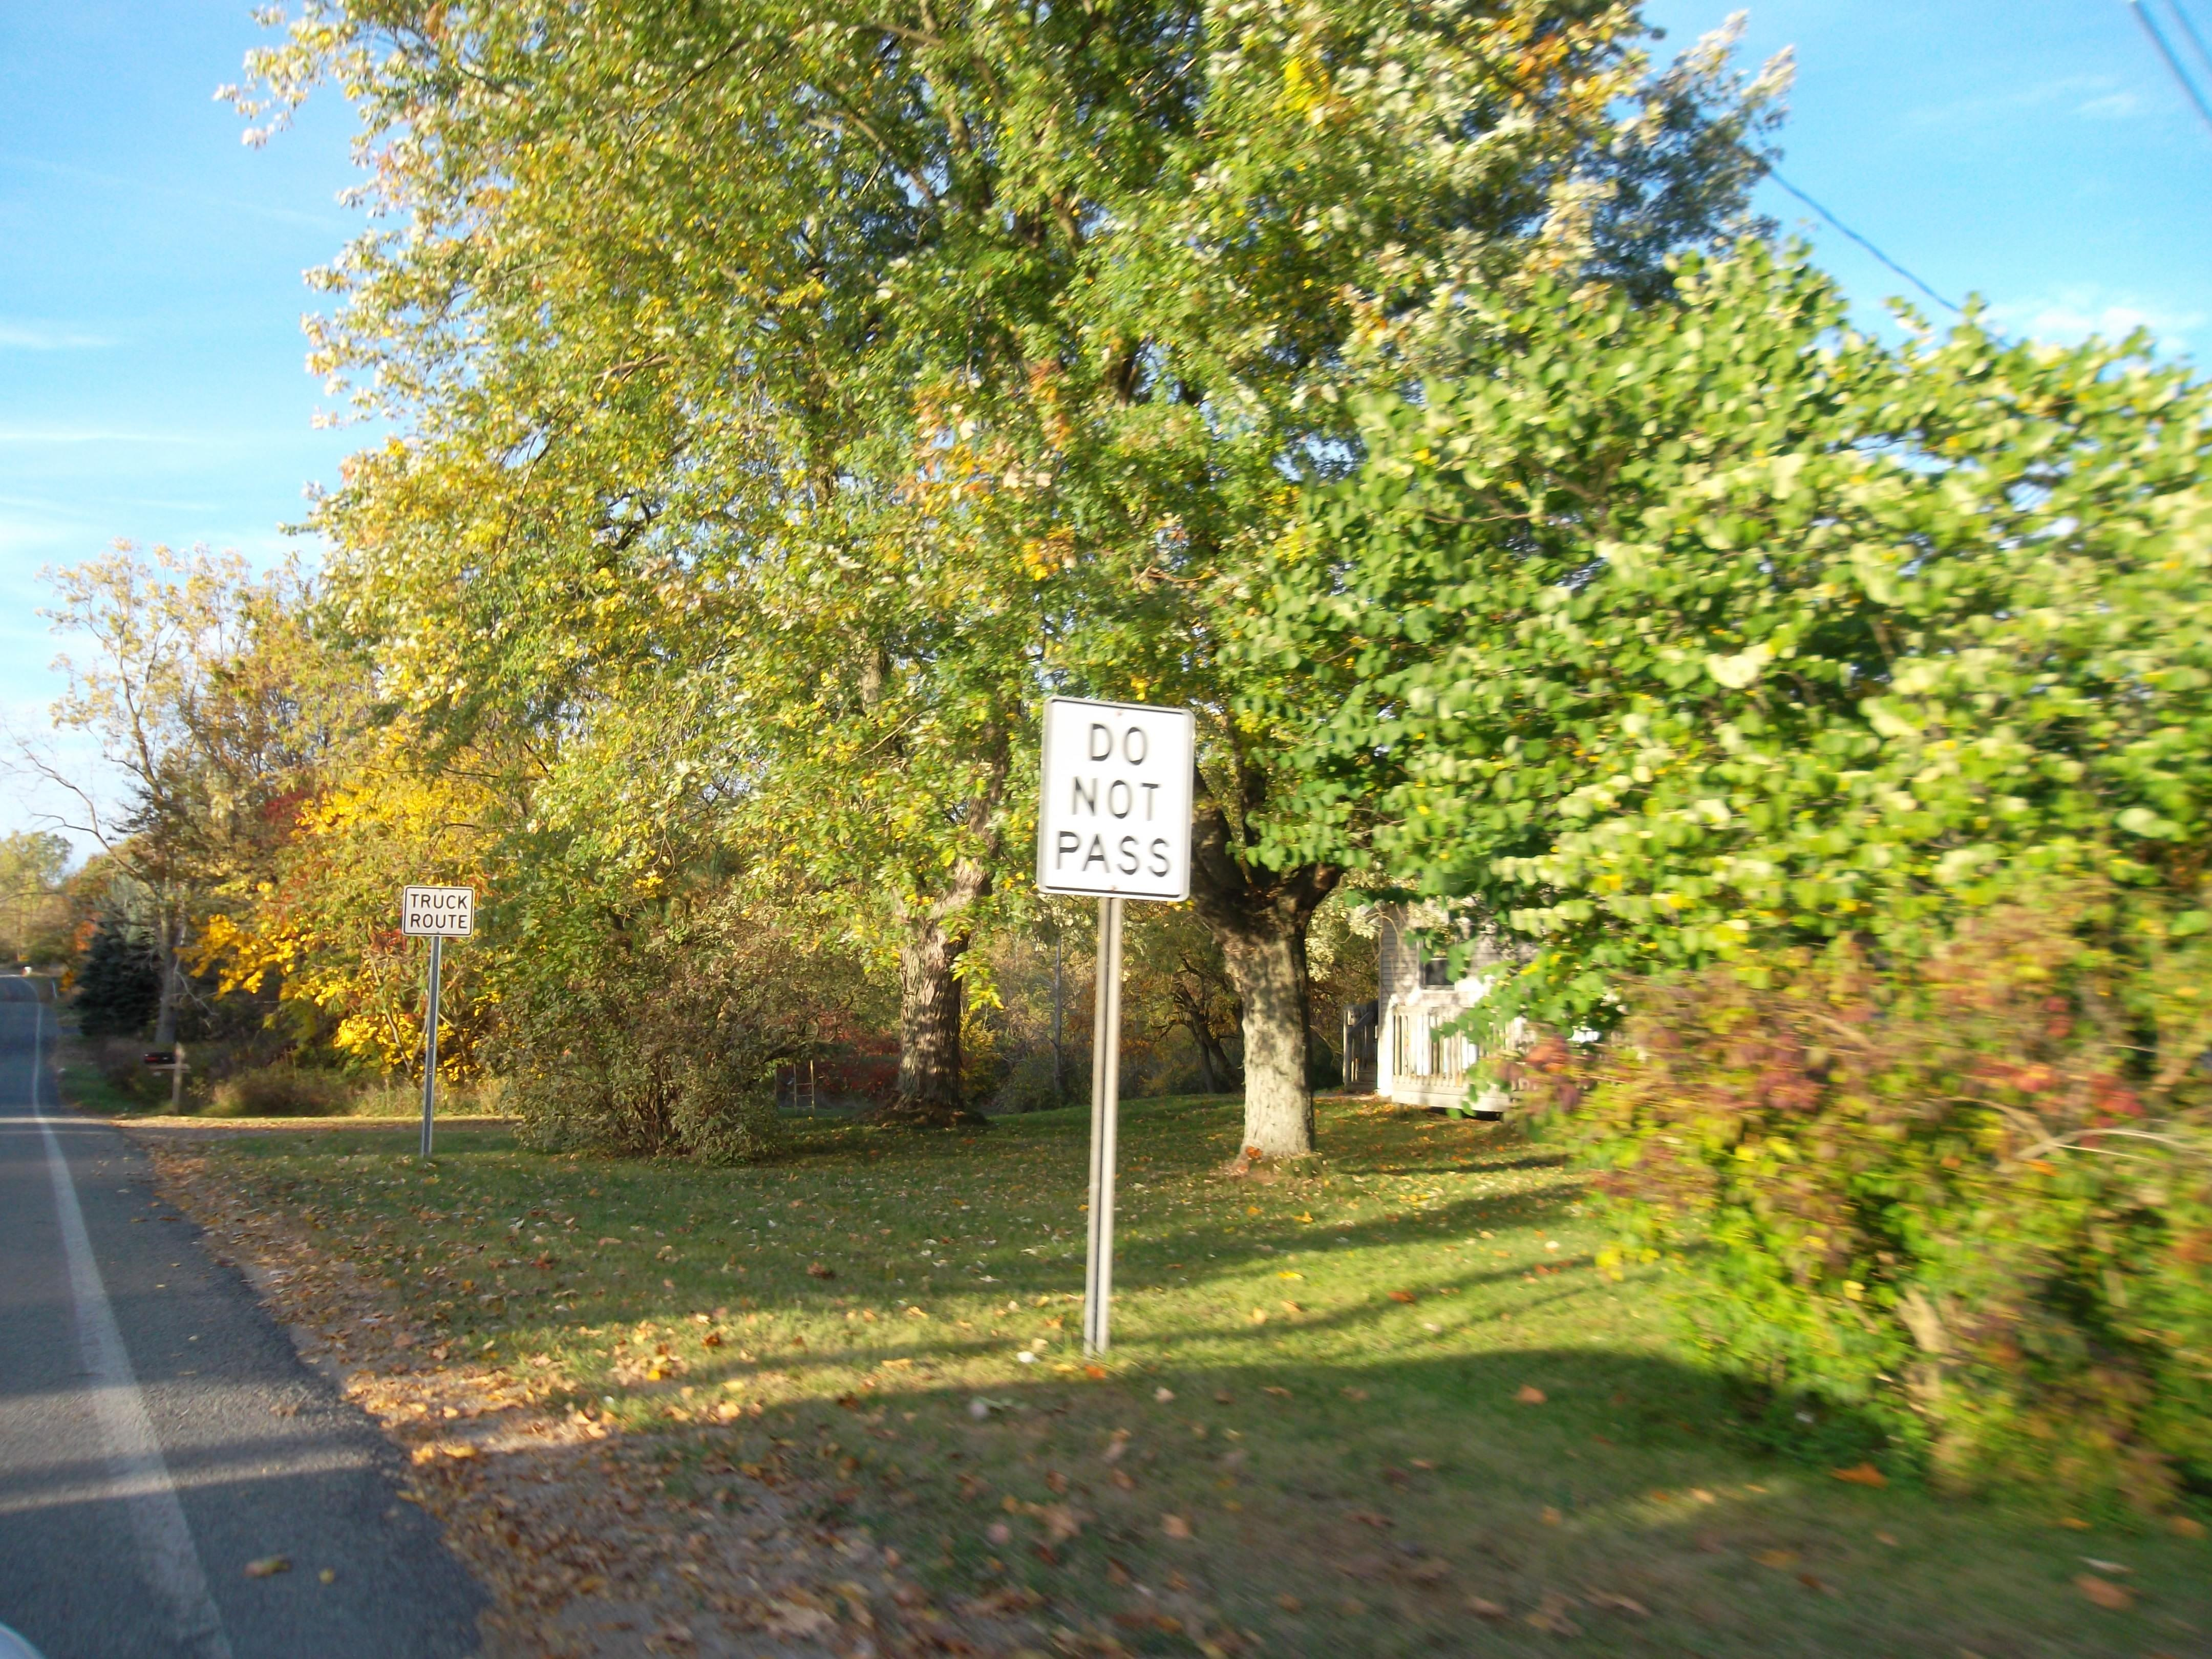regulatory: (1038, 687, 1197, 917), (399, 875, 482, 943)
